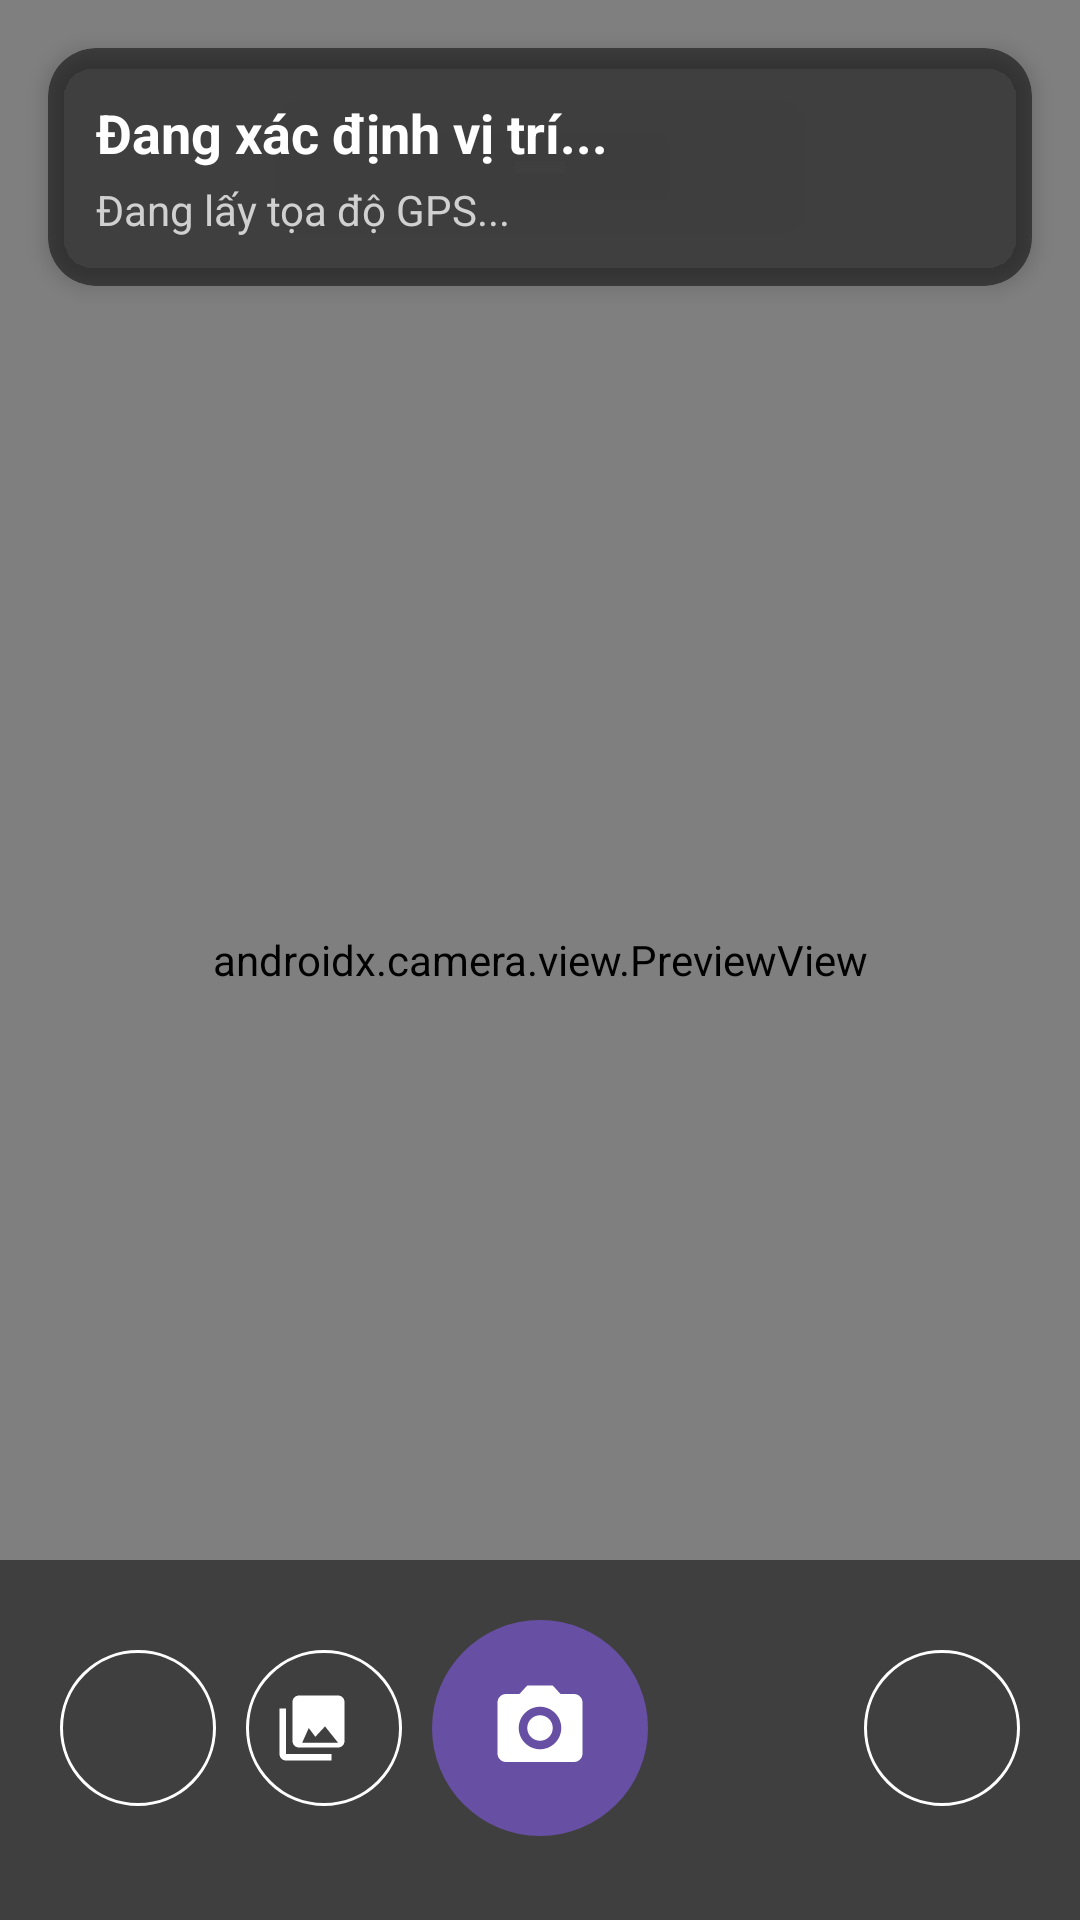

Icons on this 1080px×1920px Android screen, each with the point to tap as point (x, y):
Chọn ảnh từ thư viện: point (324, 1728)
Chụp ảnh: point (540, 1728)
